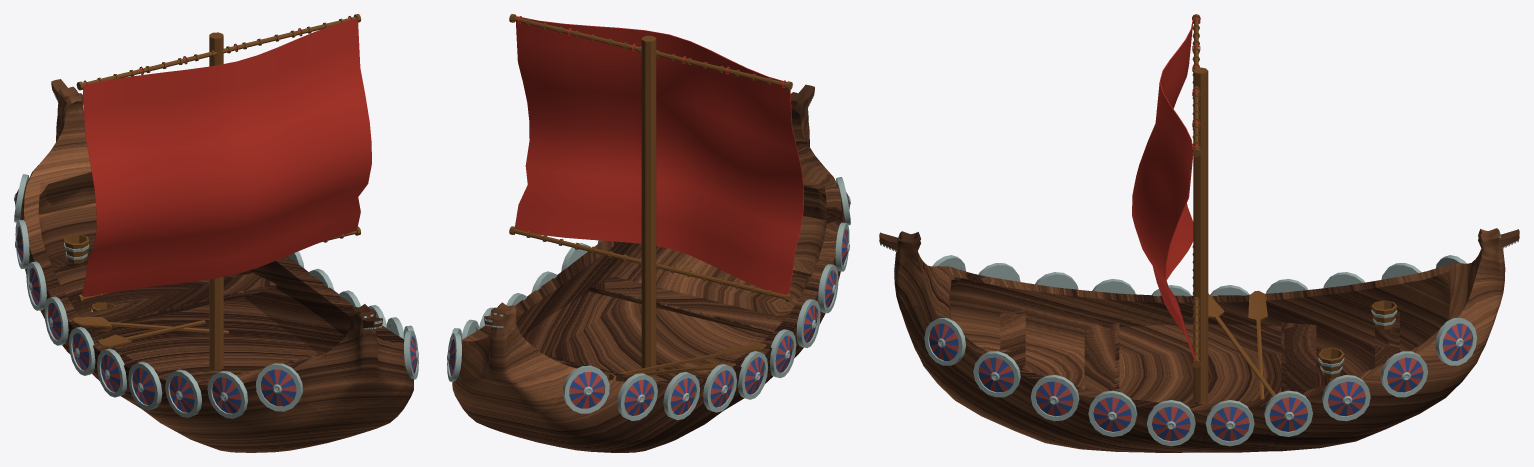
Rendered from Ship.fbx.
3 views of the same model, side by side, from view 1: azimuth 30°, elevation 25°; view 2: azimuth 150°, elevation 25°; view 3: azimuth 270°, elevation 25° (orthographic).
Parts seen in each view (by area): view 1: Mesh_Sail, Mesh_MainShip, Mesh_Shields, Mesh_Pole, Mesh_Oar1, Mesh_Oar2, Mesh_Bucket2; view 2: Mesh_Sail, Mesh_MainShip, Mesh_Shields, Mesh_Pole, Mesh_Oar2, Mesh_Oar1; view 3: Mesh_MainShip, Mesh_Shields, Mesh_Sail, Mesh_Pole, Mesh_Oar1, Mesh_Oar2, Mesh_Bucket1, Mesh_Bucket2.
Boxes of the visible parts, <box> form: Mesh_Sail: <box>82,16,371,296</box>; Mesh_MainShip: <box>20,79,413,452</box>; Mesh_Shields: <box>14,174,418,418</box>; Mesh_Pole: <box>76,14,361,370</box>; Mesh_Oar1: <box>72,317,228,334</box>; Mesh_Oar2: <box>98,320,205,347</box>; Mesh_Bucket2: <box>64,234,89,263</box>; Mesh_Sail: <box>515,16,803,294</box>; Mesh_MainShip: <box>452,84,845,452</box>; Mesh_Shields: <box>447,177,850,420</box>; Mesh_Pole: <box>509,14,792,371</box>; Mesh_Oar2: <box>619,343,766,374</box>; Mesh_Oar1: <box>625,363,735,376</box>; Mesh_MainShip: <box>879,228,1519,452</box>; Mesh_Shields: <box>924,255,1476,446</box>; Mesh_Sail: <box>1132,17,1200,359</box>; Mesh_Pole: <box>1192,14,1208,402</box>; Mesh_Oar1: <box>1248,290,1267,399</box>; Mesh_Oar2: <box>1208,293,1275,396</box>; Mesh_Bucket1: <box>1318,347,1344,378</box>; Mesh_Bucket2: <box>1371,300,1397,329</box>.
Size of the model in its own units: 401 by 488 by 802.
6 materials, 1 textured.
